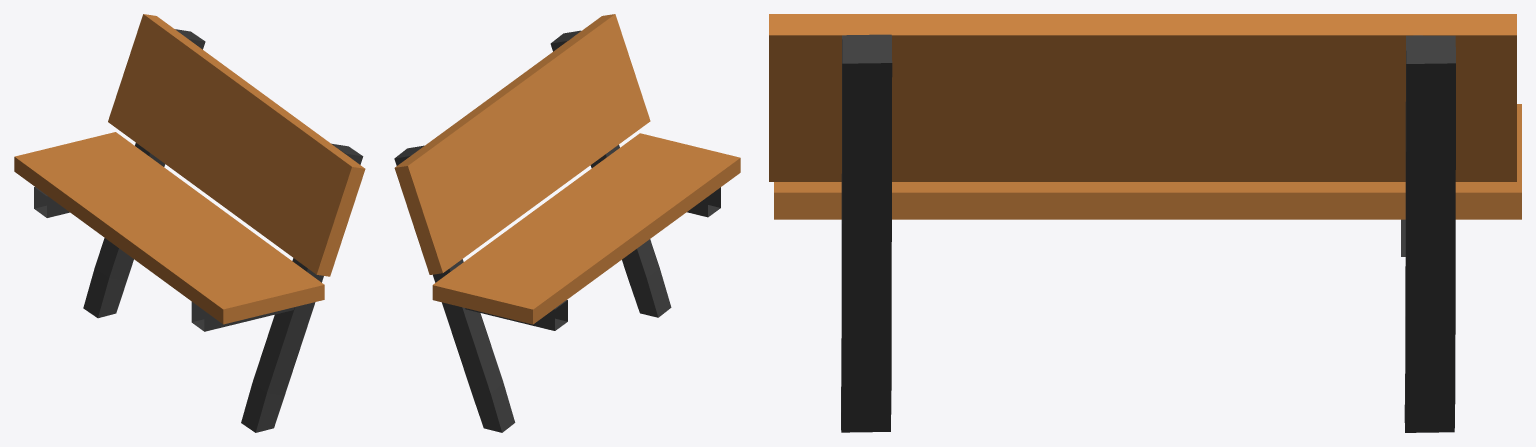
File: bench.fbx
3 renders of one model, left to right at view 1: azimuth 30°, elevation 25°; view 2: azimuth 150°, elevation 25°; view 3: azimuth 270°, elevation 25°, orthographic. The views are drawn at different scales.
Parts seen in each view (by area): view 1: Cube; view 2: Cube; view 3: Cube.
Part boxes in pixels (x1,y1,x2,y2): Cube: (14, 14, 365, 432); Cube: (394, 14, 740, 432); Cube: (769, 14, 1521, 432).
Size of the model in its own units: 266 by 416 by 604.
